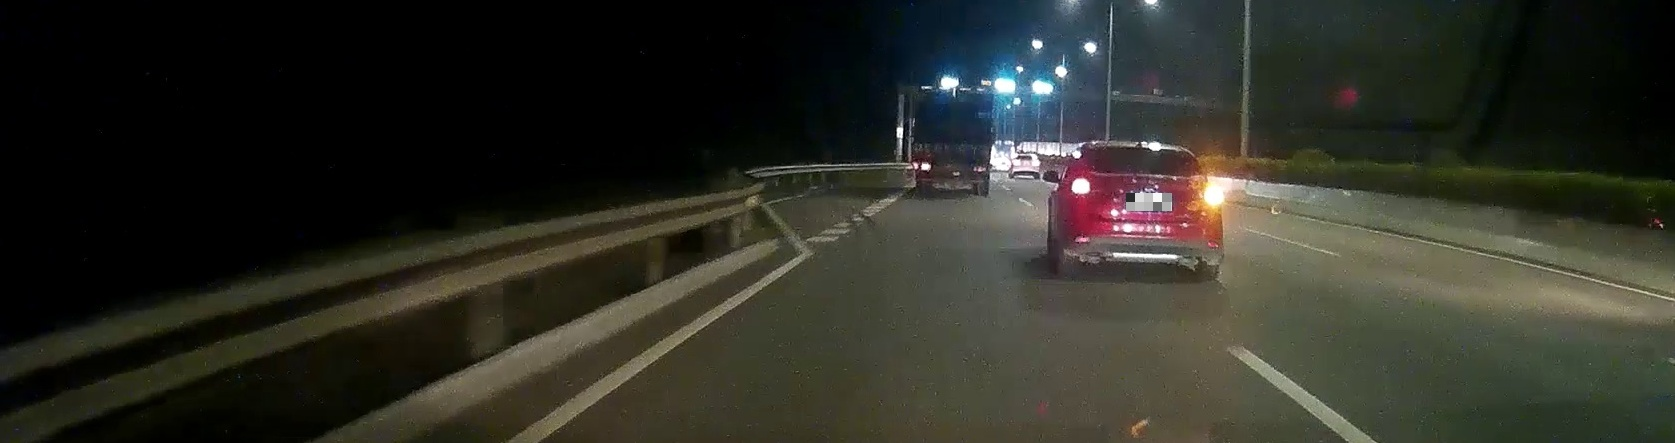L_light: (1068, 177, 1097, 197), (912, 162, 932, 171)
R_light: (1201, 185, 1223, 206), (972, 162, 989, 171)
T_light: (944, 89, 962, 95), (1133, 148, 1150, 153)
night-no: (911, 86, 993, 196)
night-right: (1061, 140, 1225, 278)
plate_1: (1126, 193, 1172, 211)
